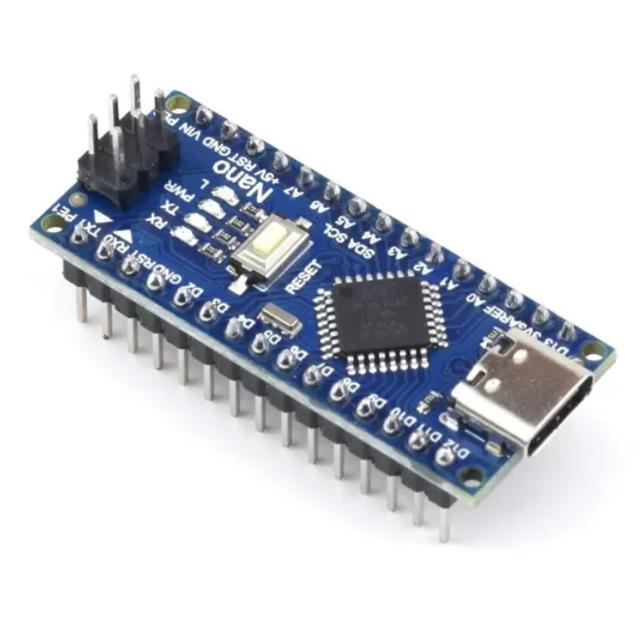Arduino-Nano: (31, 82, 615, 540)
